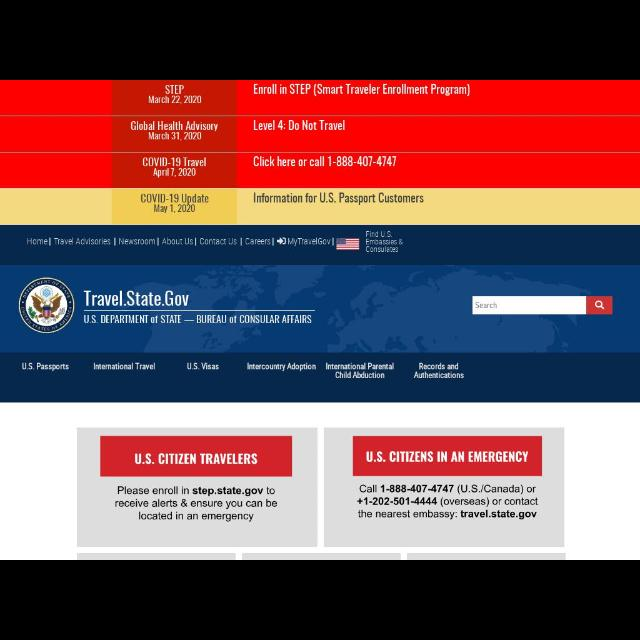backgroundimage: (3, 265, 623, 351)
button: (587, 296, 613, 314)
icon: (595, 300, 605, 310), (276, 238, 286, 245)
image: (17, 277, 74, 333), (336, 238, 360, 250)
input: (473, 296, 587, 314)
multitab: (21, 362, 466, 380), (26, 237, 332, 245)
text: (358, 484, 538, 520), (116, 486, 278, 522), (254, 82, 471, 98), (84, 314, 312, 326), (253, 192, 424, 204), (82, 290, 190, 308), (366, 450, 528, 462), (253, 156, 397, 168), (134, 453, 258, 465), (326, 362, 394, 380), (254, 119, 346, 131), (131, 120, 219, 132), (414, 362, 464, 380), (365, 230, 403, 253), (142, 156, 206, 168), (140, 193, 210, 203), (247, 362, 317, 372), (93, 362, 157, 371), (148, 95, 202, 105), (22, 362, 70, 372), (55, 237, 112, 245), (148, 132, 202, 140), (152, 168, 196, 176), (118, 237, 156, 246), (154, 204, 196, 212), (288, 238, 330, 246), (200, 237, 238, 245), (187, 363, 220, 371), (162, 237, 194, 245), (165, 84, 185, 95), (475, 300, 497, 310), (245, 238, 271, 246), (26, 237, 48, 246)
textbutton: (100, 436, 292, 476), (353, 436, 542, 476)
